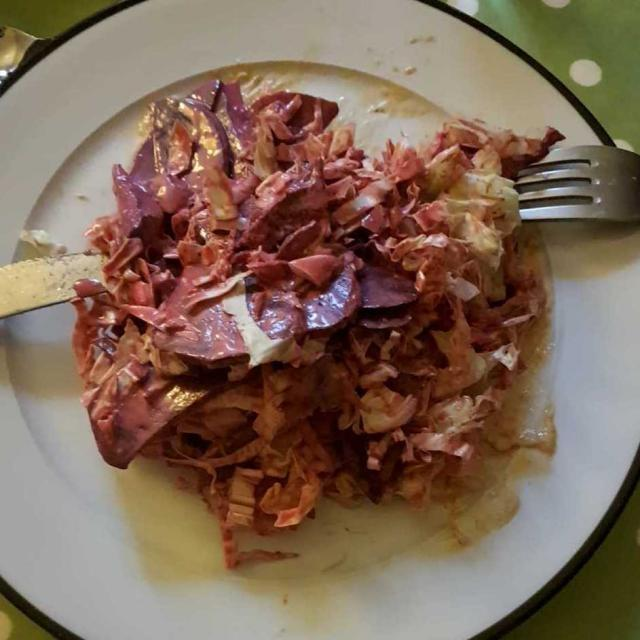beetroot: (71, 80, 420, 512)
salad: (95, 114, 554, 580)
